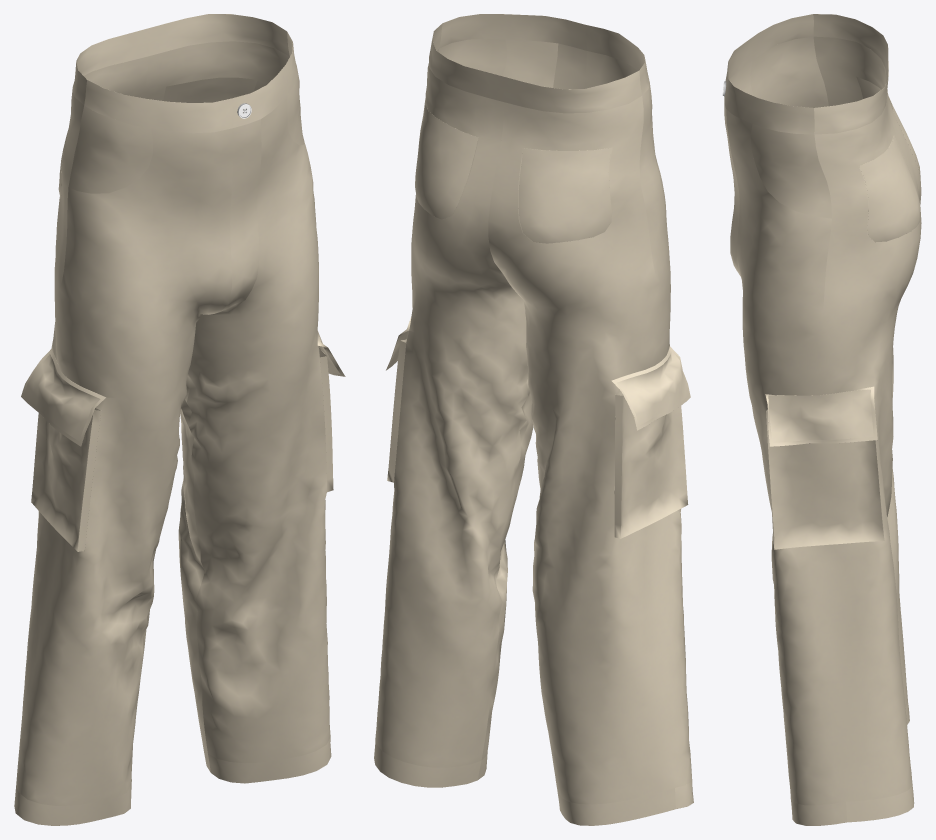
The model's file is FLG_21_02_4.fbx.
3 renders of one model, left to right at view 1: azimuth 30°, elevation 25°; view 2: azimuth 150°, elevation 25°; view 3: azimuth 270°, elevation 25°, orthographic. The views are drawn at different scales.
Parts seen in each view (by area): view 1: FLG_21_02_4; view 2: FLG_21_02_4; view 3: FLG_21_02_4.
Part boxes in pixels (bbox=[...]): FLG_21_02_4: bbox=[14, 14, 345, 825]; FLG_21_02_4: bbox=[374, 14, 693, 825]; FLG_21_02_4: bbox=[722, 14, 921, 825].
Bounding box in the file's own units: 45.62 × 106 × 26.95.
